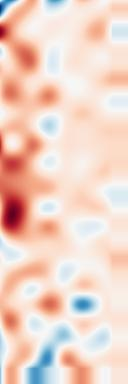filament: (0, 130, 42, 239)
